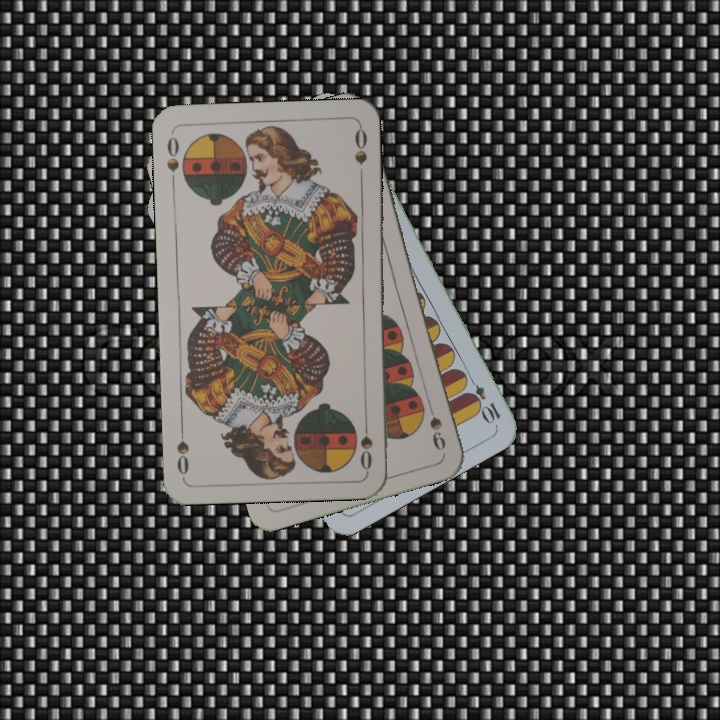E10: (462, 371, 504, 426)
S9: (423, 396, 449, 453)
SO: (356, 414, 375, 473), (163, 130, 181, 189)
